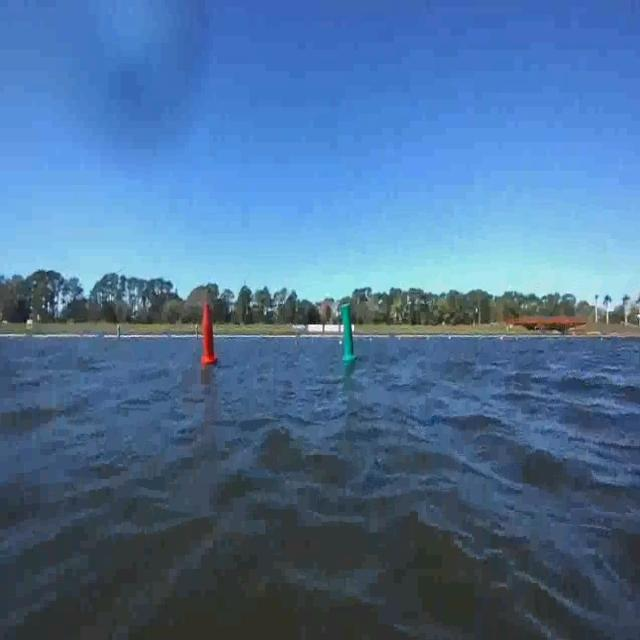green-column-buoy: (342, 305, 358, 366)
red-column-buoy: (200, 301, 218, 365)
